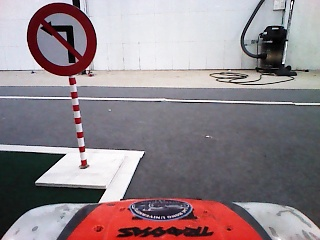ban_left: (26, 2, 97, 77)
